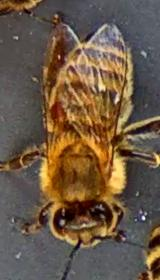varroa_mite: (42, 94, 76, 127)
